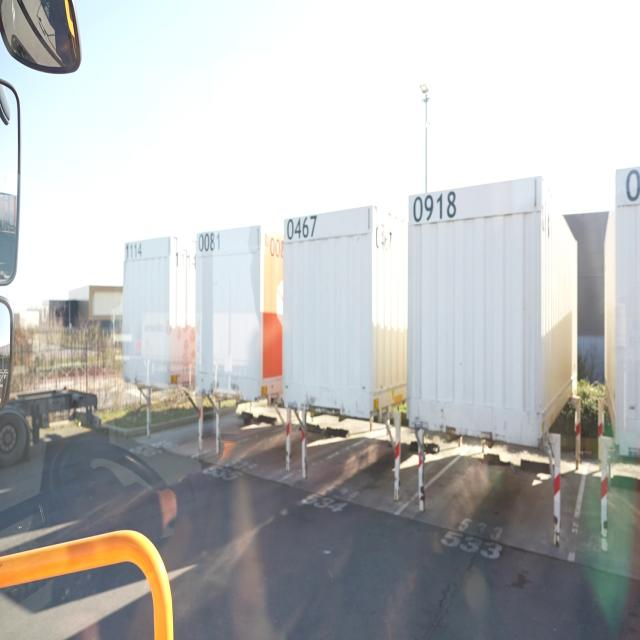Code: (412, 187, 457, 224), (283, 212, 319, 244), (121, 232, 144, 266), (197, 230, 223, 255)
